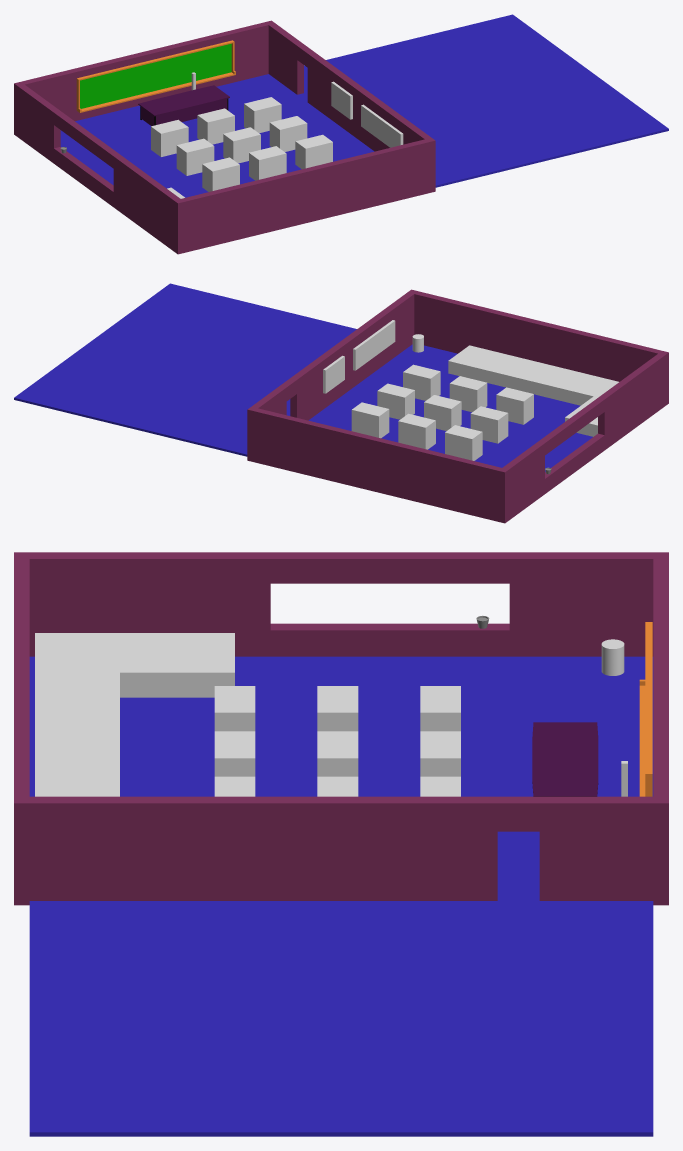
Rendered from WindowsNewAndSomeOtherThingsHereAndThere.FBX.
3 views of the same model, one above another, from view 1: azimuth 30°, elevation 25°; view 2: azimuth 150°, elevation 25°; view 3: azimuth 270°, elevation 25° (orthographic). The views are drawn at different scales.
Visible parts, largest first — view 1: Ground2, Walls1, Ground1, Walls3, Walls4, Walls2, Board, TeacherDesk, Box004, Box005, Box003, Box008 (+7 smaller); view 2: Ground2, Walls2, Walls1, Walls3, Ground1, Walls4, Box014, Box010, Box005, Box006, Box004, Box003 (+6 smaller); view 3: Ground2, Walls4, Ground1, Walls3, Box014, TeacherDesk, Walls1, Walls2, Board, Box007, Box008, Box004 (+7 smaller).
Part boxes in pixels (x1,y1,x2,y2): Ground2: [297, 14, 668, 187]; Walls1: [181, 139, 428, 252]; Ground1: [60, 74, 374, 197]; Walls3: [14, 82, 184, 254]; Walls4: [265, 20, 435, 192]; Walls2: [21, 22, 268, 121]; Board: [76, 40, 235, 112]; TeacherDesk: [138, 85, 229, 126]; Box004: [176, 138, 214, 175]; Box005: [151, 119, 188, 156]; Box003: [202, 157, 239, 191]; Box008: [249, 146, 286, 180]; Ground2: [14, 283, 356, 456]; Walls2: [254, 408, 501, 521]; Walls1: [414, 291, 661, 381]; Walls3: [498, 351, 668, 523]; Ground1: [308, 344, 592, 471]; Walls4: [247, 289, 417, 461]; Box014: [448, 345, 618, 436]; Box010: [351, 402, 389, 438]; Box005: [445, 425, 482, 460]; Box006: [398, 413, 435, 449]; Box004: [470, 406, 508, 443]; Box003: [496, 387, 533, 424]; Ground2: [29, 894, 653, 1136]; Walls4: [14, 796, 668, 905]; Ground1: [29, 656, 653, 894]; Walls3: [14, 552, 668, 656]; Box014: [35, 633, 234, 796]; TeacherDesk: [532, 722, 598, 796]; Walls1: [14, 559, 29, 796]; Walls2: [653, 559, 668, 796]; Board: [639, 622, 652, 796]; Box007: [317, 731, 358, 776]; Box008: [214, 731, 255, 776]; Box004: [317, 686, 358, 731].
Bounding box in the file's own units: 35.31 × 3.48 × 20.26.
